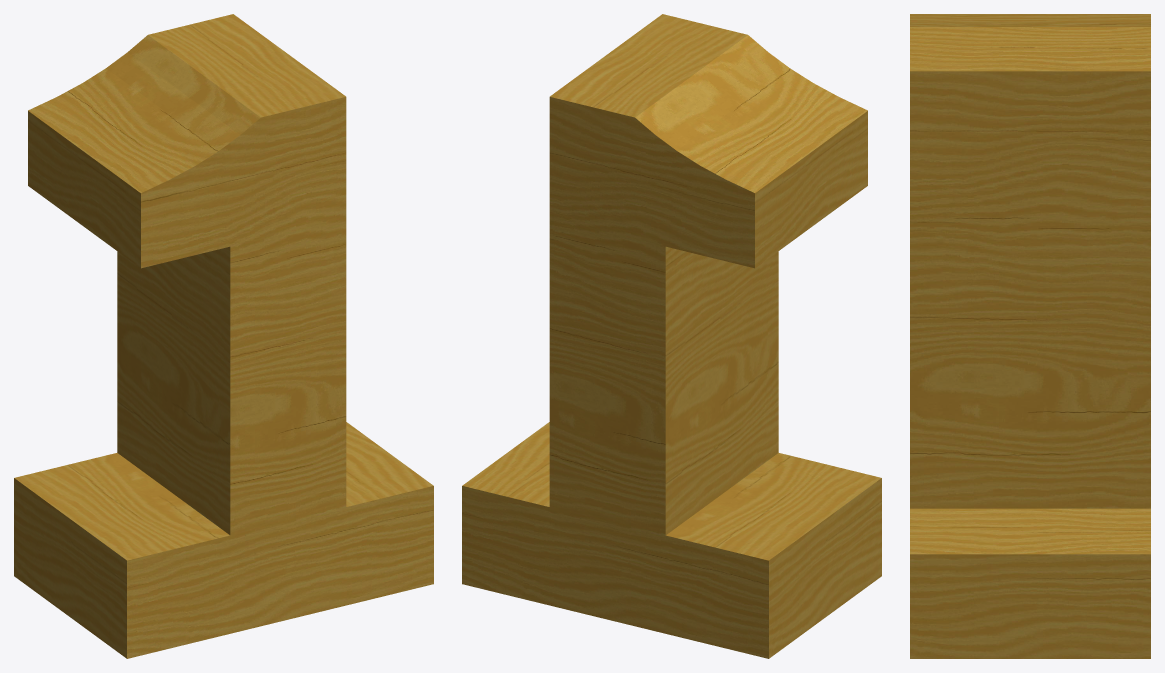
The model's file is MounTripElement.glb.
3 views of the same model, side by side, from view 1: azimuth 30°, elevation 25°; view 2: azimuth 150°, elevation 25°; view 3: azimuth 270°, elevation 25° (orthographic). The views are drawn at different scales.
Visible parts, largest first — view 1: 3D 1 - 1; view 2: 3D 1 - 1; view 3: 3D 1 - 1.
Boxes of the visible parts, left/top/right/bottom form: 3D 1 - 1: left=14, top=14, right=433, bottom=658; 3D 1 - 1: left=462, top=14, right=881, bottom=658; 3D 1 - 1: left=910, top=14, right=1150, bottom=658.
Size of the model in its own units: 0.0235 by 0.0372 by 0.015.
Materials: 1 (1 with a texture image).
